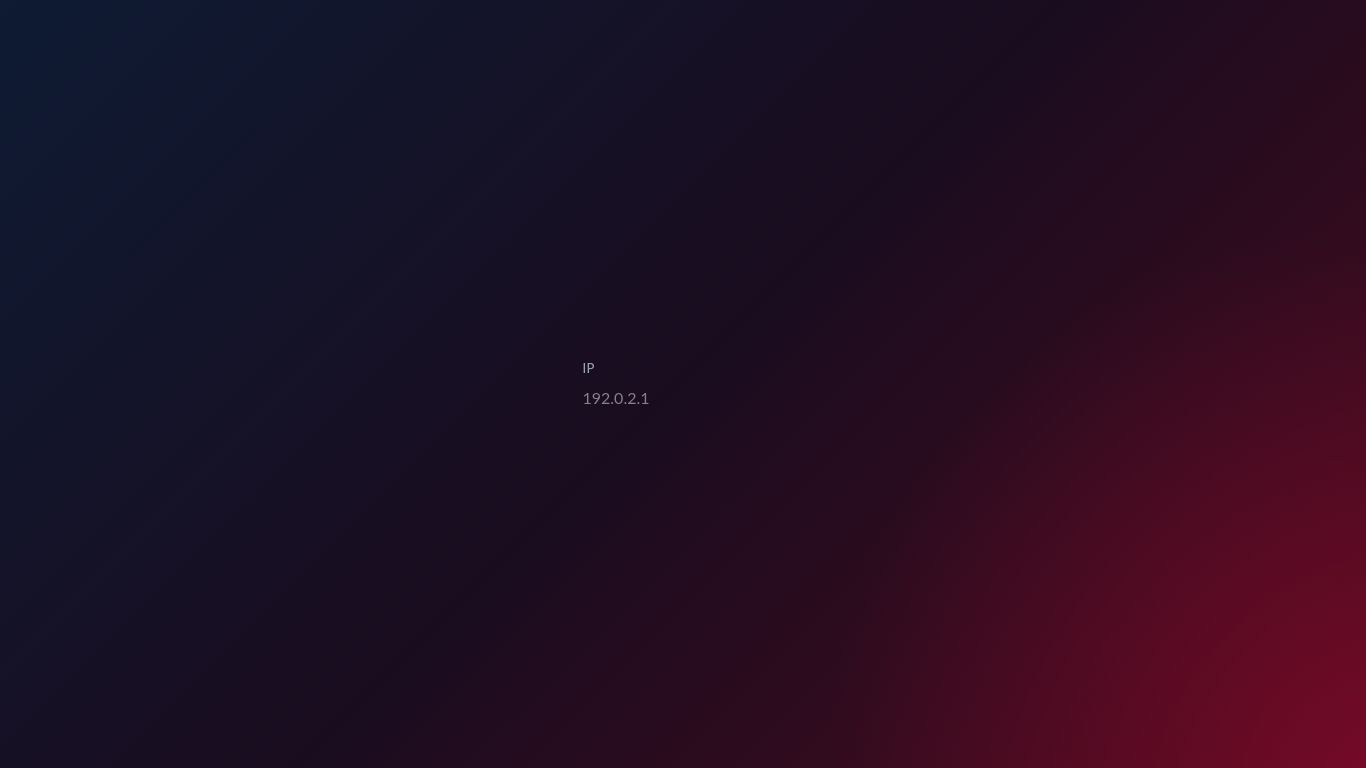
AllowListEditor / IpInput › shows an error on blur for an invalid IP
The width and height of the screenshot is (1366, 768).
Type "999.1.1.1" into the field labelled "IP".
click(683, 397); type("999.1.1.1")  # box [582, 385, 784, 410]
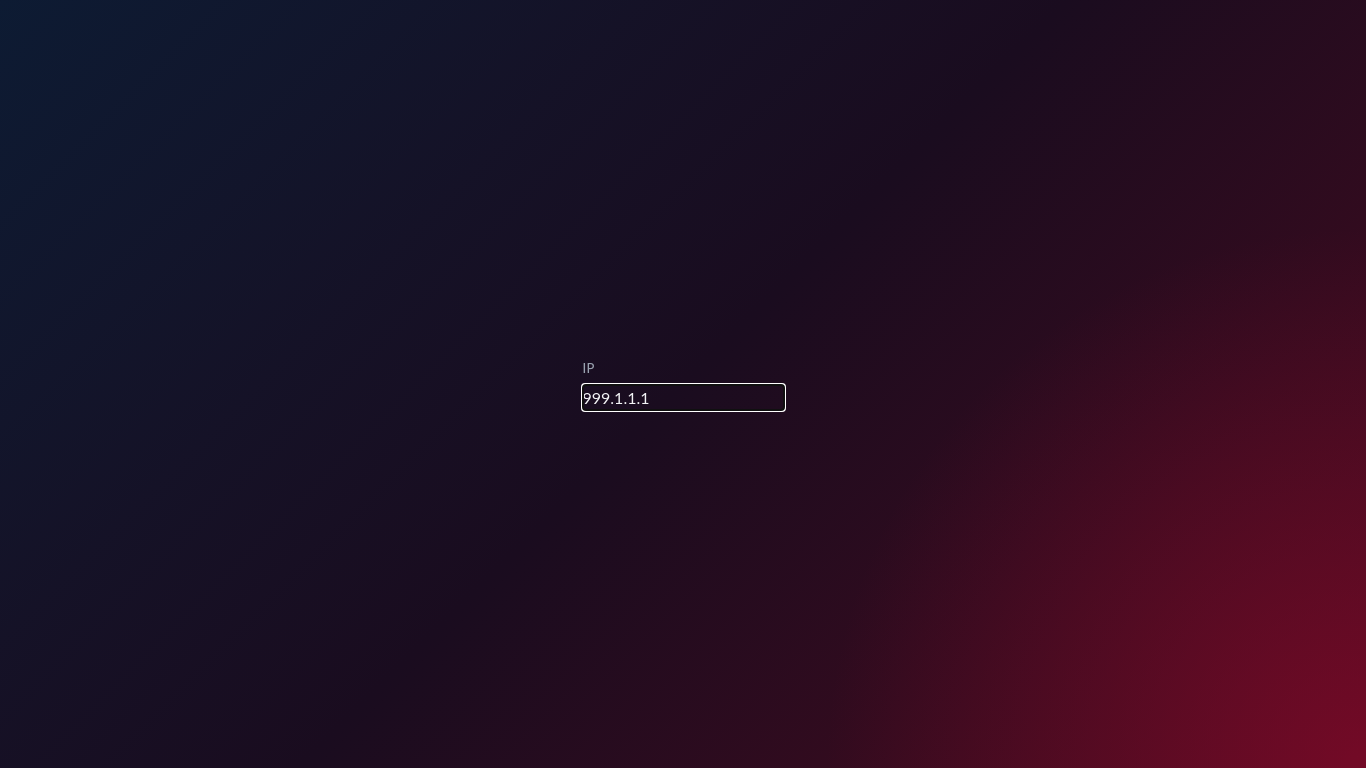
Press Tab
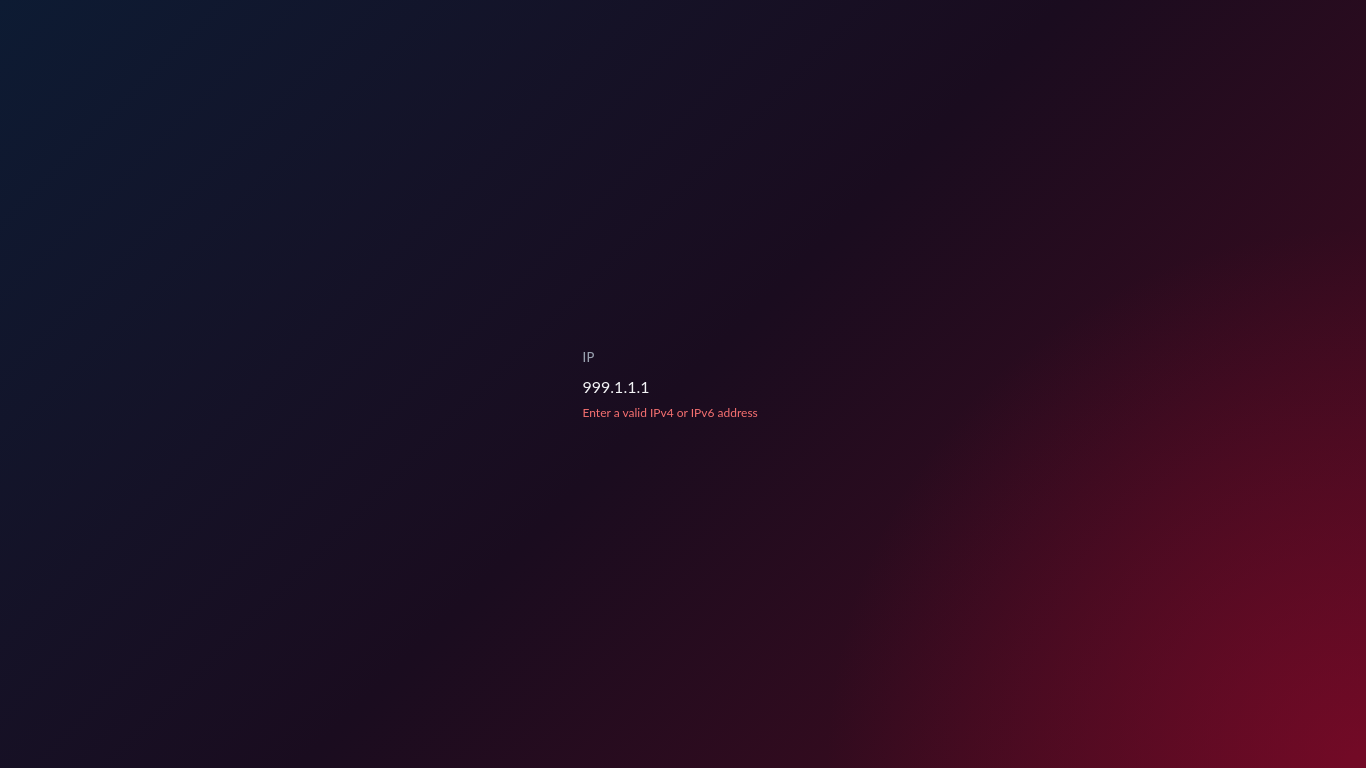
Result: the message "Enter a valid IPv4 or IPv6 address" is shown at [582, 405, 784, 421]
